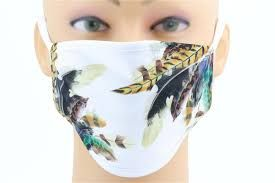with-mask: (30, 1, 239, 180)
